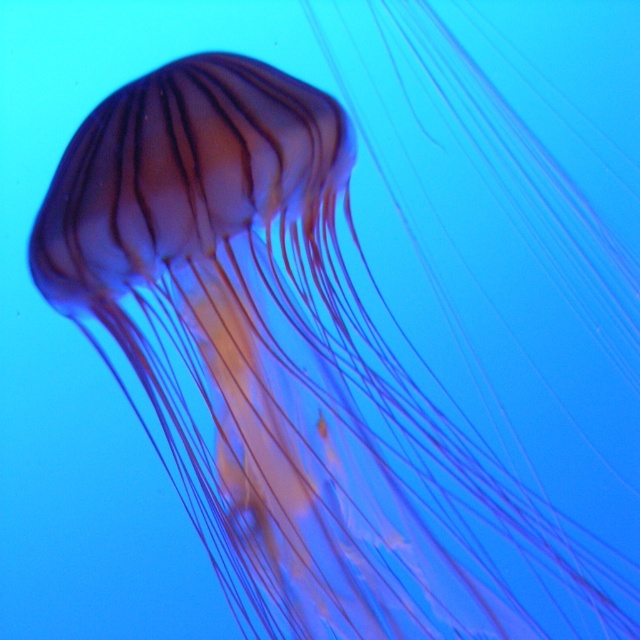Jellyfish: (28, 49, 640, 639)
